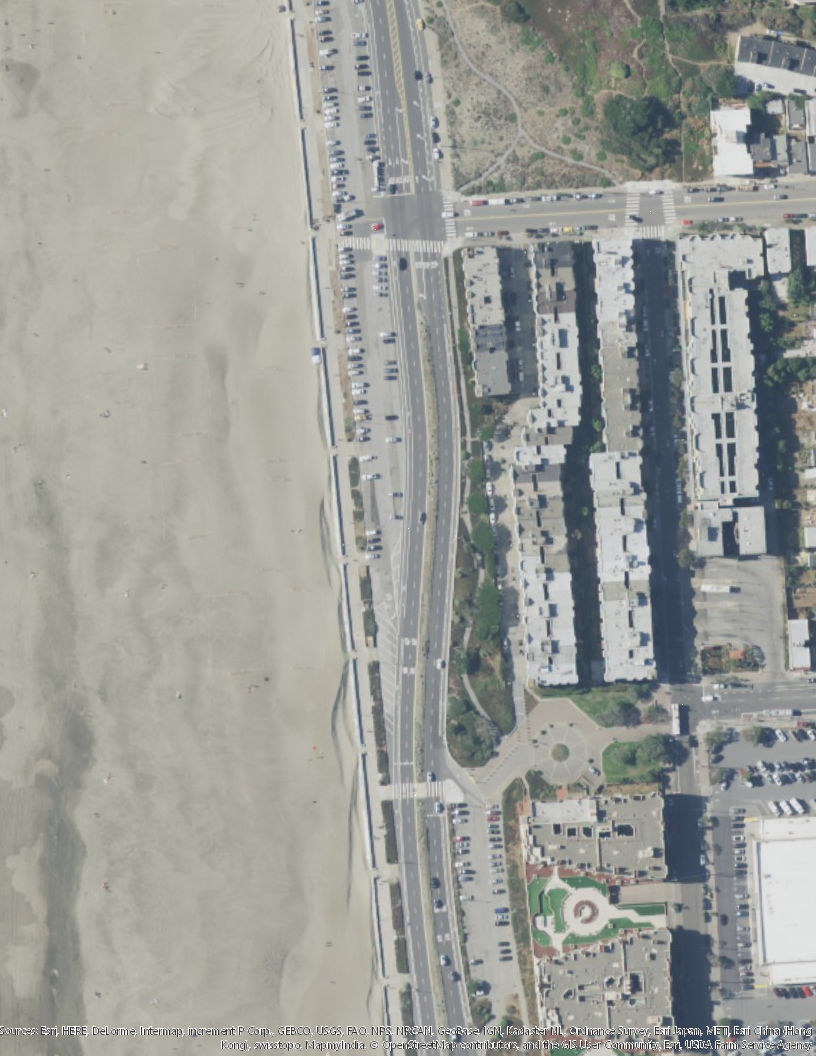zebracross: (386, 237, 444, 256), (623, 188, 642, 229), (442, 198, 457, 239), (339, 235, 377, 251), (637, 223, 672, 237), (666, 188, 678, 224), (393, 784, 416, 798), (425, 781, 445, 796)
